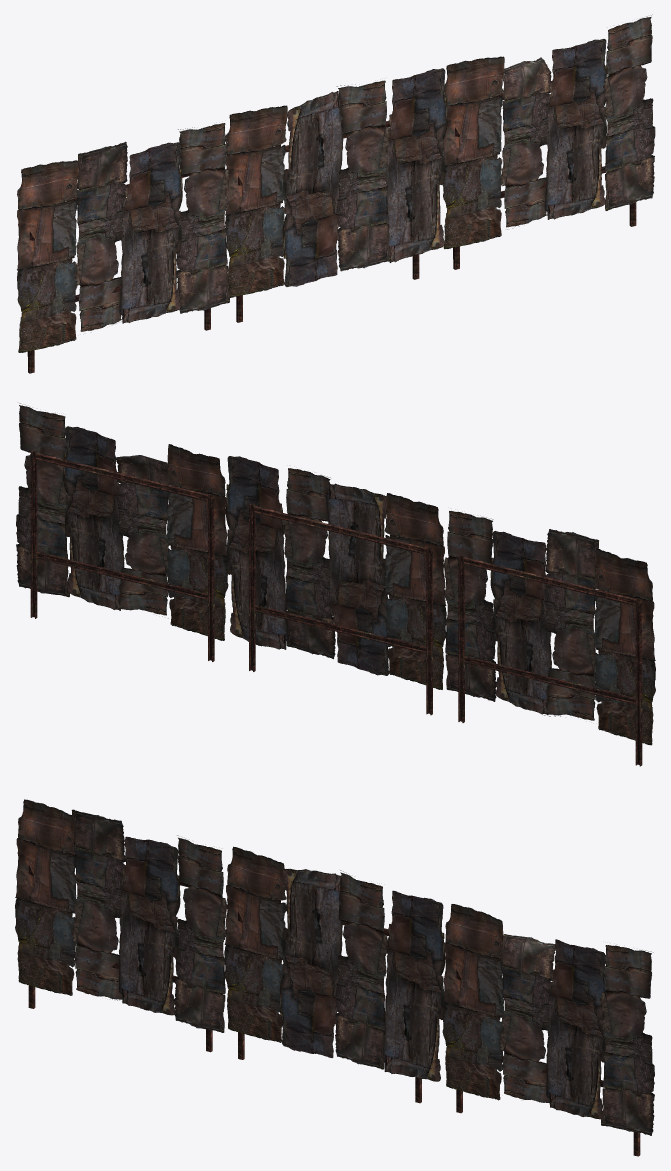
File: metalList_zabor.FBX
3 renders of one model, top to bottom at view 1: azimuth 30°, elevation 25°; view 2: azimuth 150°, elevation 25°; view 3: azimuth 330°, elevation 25°, orthographic.
Visible parts, largest first — view 1: Metal_Fence_01, Metal_Fence_02, Metal_Fence_03; view 2: Metal_Fence_01, Metal_Fence_02, Metal_Fence_03; view 3: Metal_Fence_01, Metal_Fence_02, Metal_Fence_03.
Boxes of the visible parts, <box> form: Metal_Fence_01: <box>225,68,447,322</box>; Metal_Fence_02: <box>17,123,229,373</box>; Metal_Fence_03: <box>442,14,655,269</box>; Metal_Fence_01: <box>225,456,446,715</box>; Metal_Fence_02: <box>443,511,655,766</box>; Metal_Fence_03: <box>16,403,228,661</box>; Metal_Fence_01: <box>224,846,445,1103</box>; Metal_Fence_02: <box>15,799,227,1052</box>; Metal_Fence_03: <box>442,904,654,1156</box>.
Bounding box in the file's own units: 7.87 × 2.5 × 0.2743.
